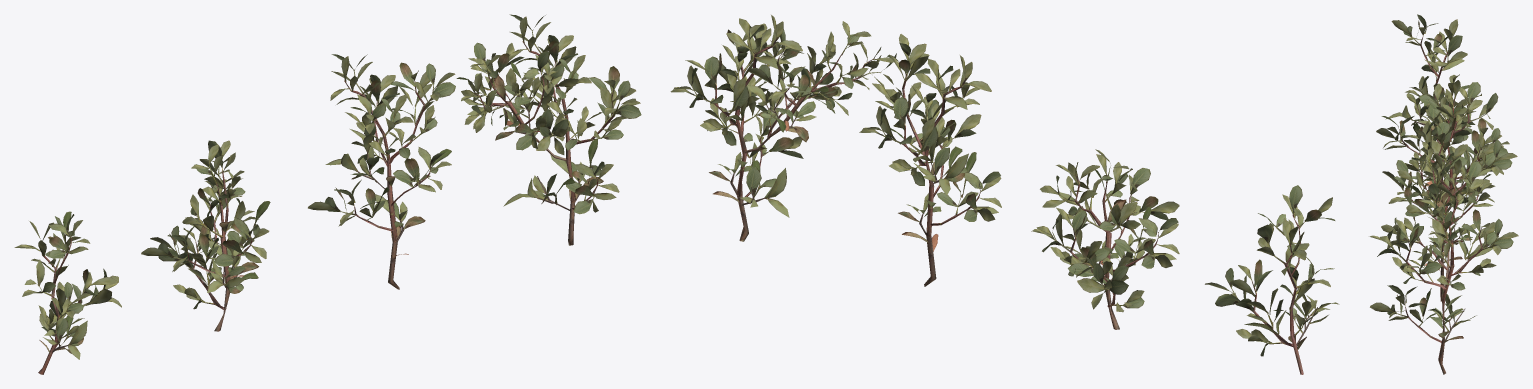
The model's file is shrub_04_lo.glb.
3 views of the same model, side by side, from view 1: azimuth 30°, elevation 25°; view 2: azimuth 150°, elevation 25°; view 3: azimuth 270°, elevation 25° (orthographic). The views are drawn at different scales.
Parts seen in each view (by area): view 1: shrub_04; view 2: shrub_04; view 3: shrub_04.
Part boxes in pixels (x1,y1,x2,y2): shrub_04: (14,14,641,374); shrub_04: (670,15,1339,374); shrub_04: (1369,14,1518,374).
Bounding box in the file's own units: 0.5831 × 0.2186 × 0.1459.
1 material, 1 textured.
